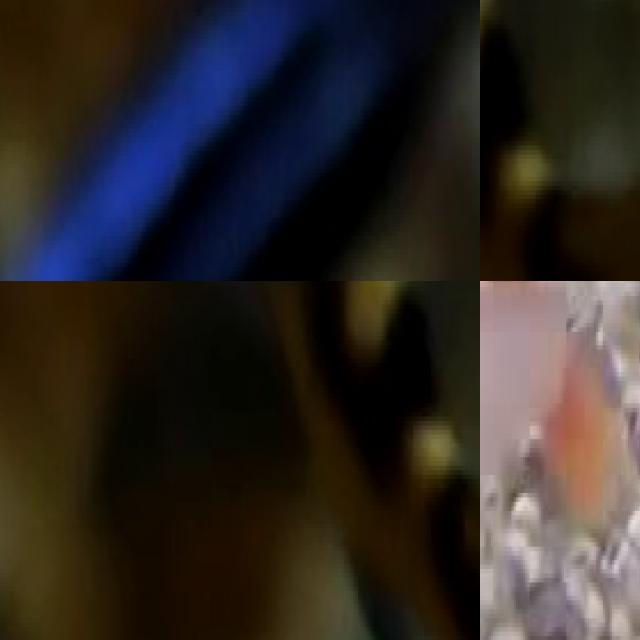fish: (0, 0, 480, 281), (480, 0, 640, 281)
